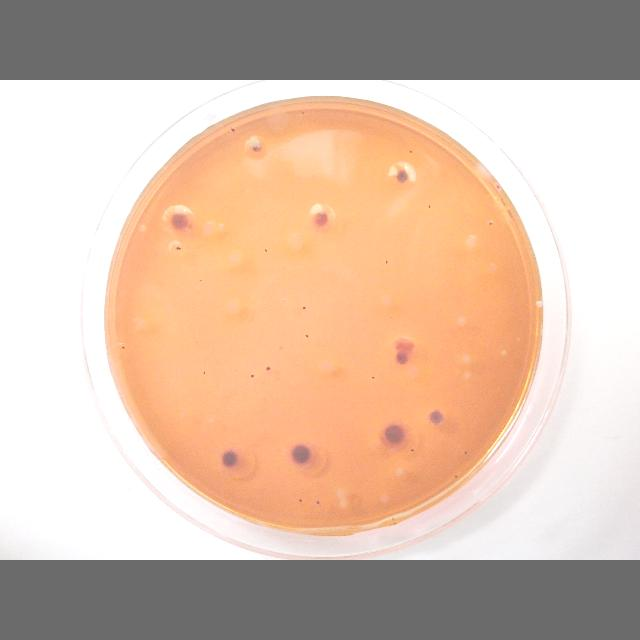colony: (168, 208, 192, 240), (288, 442, 314, 466), (382, 421, 406, 447), (220, 448, 240, 470), (427, 408, 447, 428), (394, 165, 412, 185), (309, 210, 329, 228), (248, 137, 264, 159), (394, 348, 408, 368), (493, 180, 501, 193), (173, 244, 183, 254), (487, 218, 495, 228), (200, 368, 208, 378), (230, 125, 237, 136), (452, 472, 460, 481), (426, 202, 432, 212), (384, 257, 390, 267), (298, 496, 304, 506), (315, 498, 321, 508), (409, 446, 416, 454), (408, 148, 414, 156), (248, 373, 256, 379), (463, 449, 469, 457), (120, 343, 126, 351), (264, 246, 268, 256), (304, 333, 310, 339), (265, 366, 271, 372), (302, 304, 306, 312), (370, 376, 376, 380), (300, 110, 304, 116)
